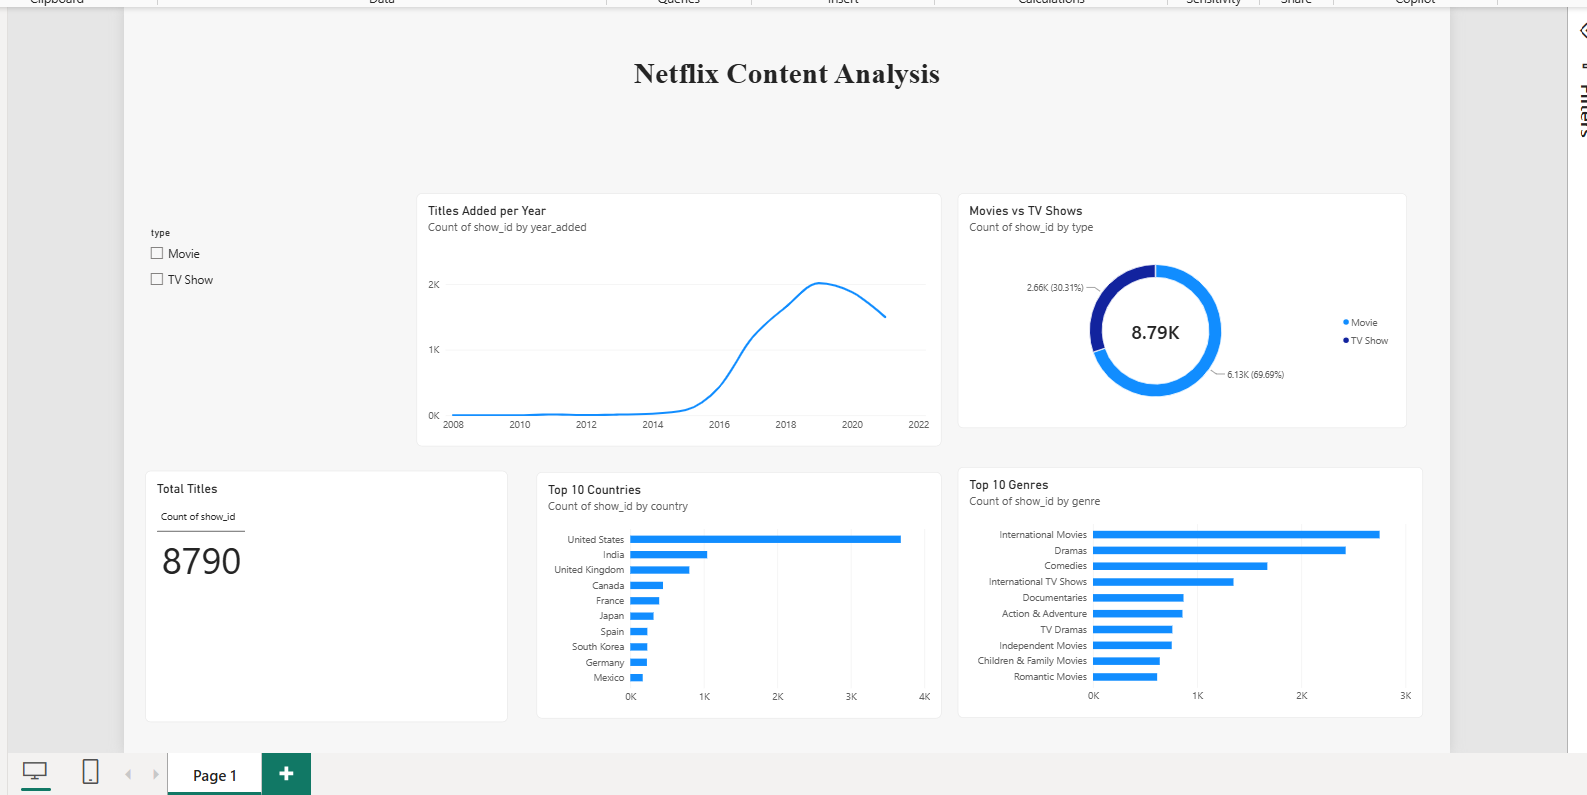

The page's visual inventory and layout, read from the dashboard file:
{"tool":"powerbi","page":{"name":"Page 1","canvas":[1920,1080],"ordinal":0},"visuals":[{"type":"tableEx","title":"Total  Titles","fields":{"Values":["netflix_cleaned (1).show_id"]},"box":[31.5,670.6,524.4,363.9],"z":0},{"type":"slicer","fields":{"Values":["netflix_cleaned (1).type"]},"box":[31.5,318.1,487.2,349.6],"z":1},{"type":"donutChart","title":"Movies vs TV Shows","fields":{"Category":["netflix_cleaned (1).type"],"Y":["Count(netflix_cleaned (1).show_id)"]},"box":[1206.7,270,650,340],"z":2},{"type":"lineChart","title":"Titles Added per Year","fields":{"Category":["netflix_cleaned (1).year_added"],"Y":["Count(netflix_cleaned (1).show_id)"]},"box":[423.3,270,760,366.7],"z":3},{"type":"barChart","title":"Top 10 Countries","fields":{"Category":["netflix_countries (1).country"],"Y":["Count(netflix_countries (1).show_id)"]},"box":[596.7,673.3,586.7,356.7],"z":4},{"type":"barChart","title":"Top 10 Genres","fields":{"Category":["netflix_genres (1).genre"],"Y":["Count(netflix_genres (1).show_id)"]},"box":[1206.7,666.7,673.3,363.3],"z":5},{"type":"textbox","box":[1124,70,570,292],"z":6},{"type":"textbox","box":[0,70,1920,146.7],"z":7}]}

Visuals, with their boxes on the page's 1920x1080 design canvas (x1, y1, x2, y2). These are canvas units, not pixel positions in the 1587x795 screenshot, which may show the page scaled, cropped or inside an application window:
"Total  Titles" tableEx: [32,671,556,1034]
slicer - netflix_cleaned (1).type: [32,318,519,668]
"Movies vs TV Shows" donutChart: [1207,270,1857,610]
"Titles Added per Year" lineChart: [423,270,1183,637]
"Top 10 Countries" barChart: [597,673,1183,1030]
"Top 10 Genres" barChart: [1207,667,1880,1030]
textbox: [1124,70,1694,362]
textbox: [0,70,1920,217]
